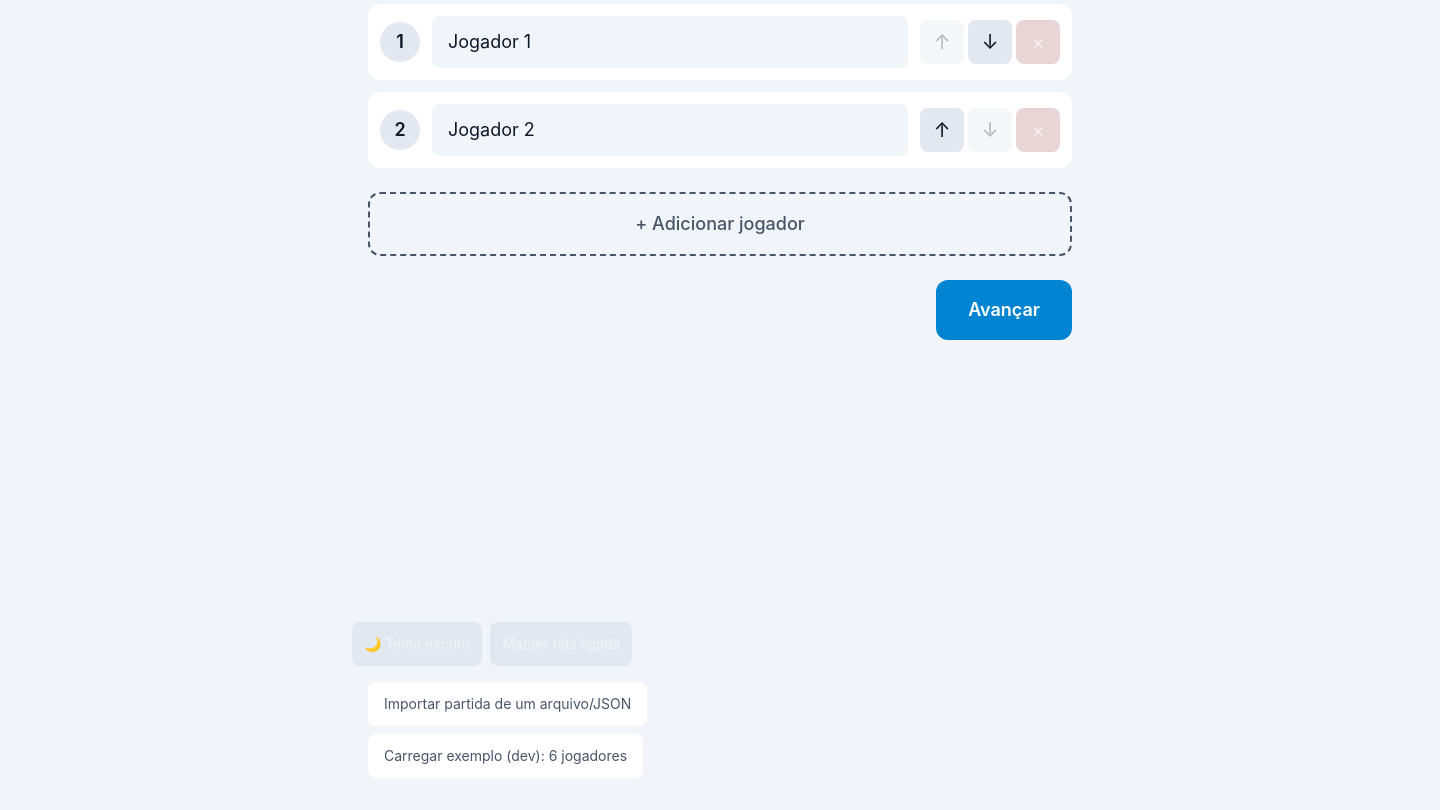
Scenario: Dashboard — critério de aceite (6 jogadores, fixture de dev) › toggle de ocultar dinheiro é por jogador, independente, e começa visível
(page scrolled)
Step 1. Click the button "Carregar exemplo (dev): 6 jogadores" → x=506, y=756, box x1=368 y1=734 x2=643 y2=778
(page scrolled)
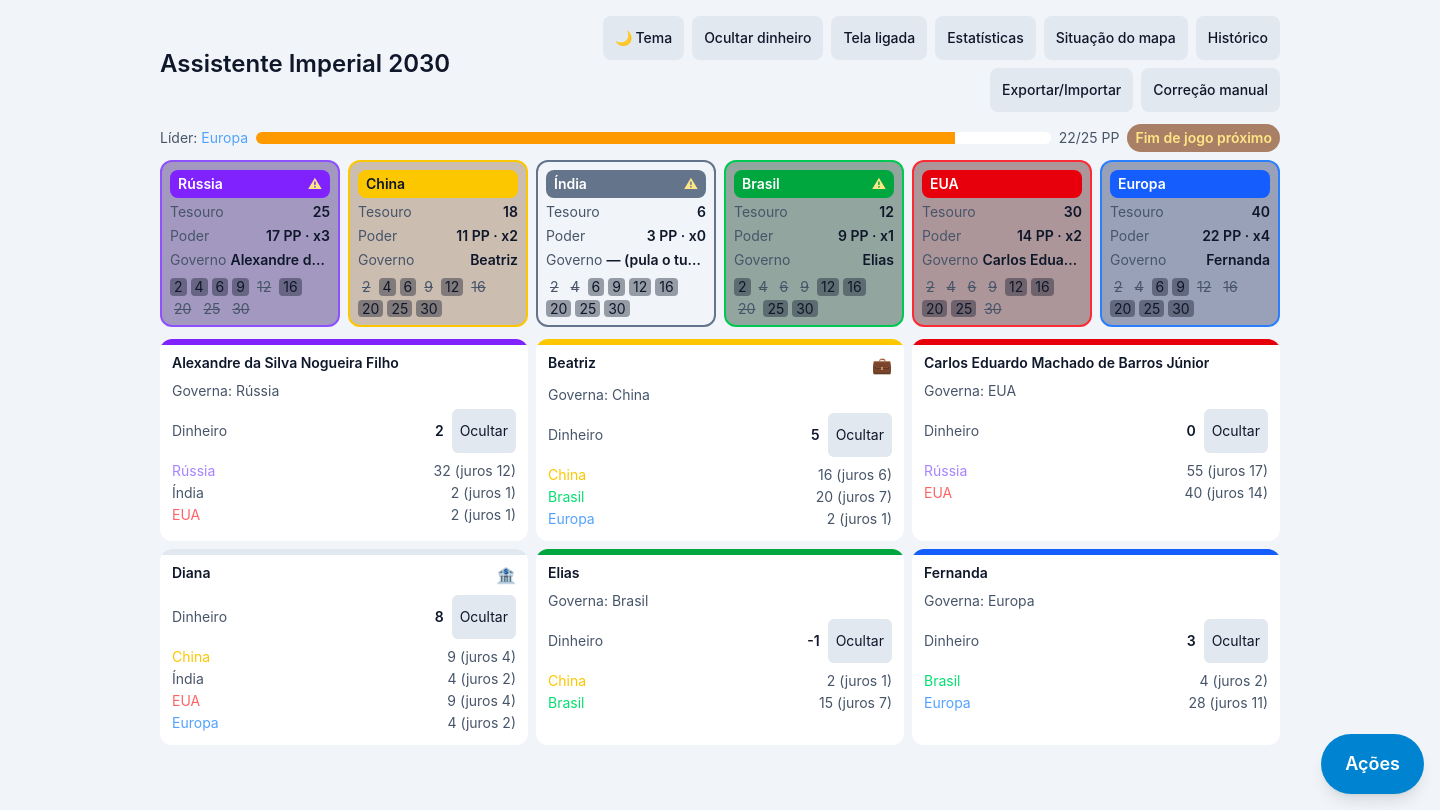
Step 2. Click the button with aria-label "Ocultar dinheiro de Beatriz" → x=860, y=435, box x1=828 y1=413 x2=892 y2=457
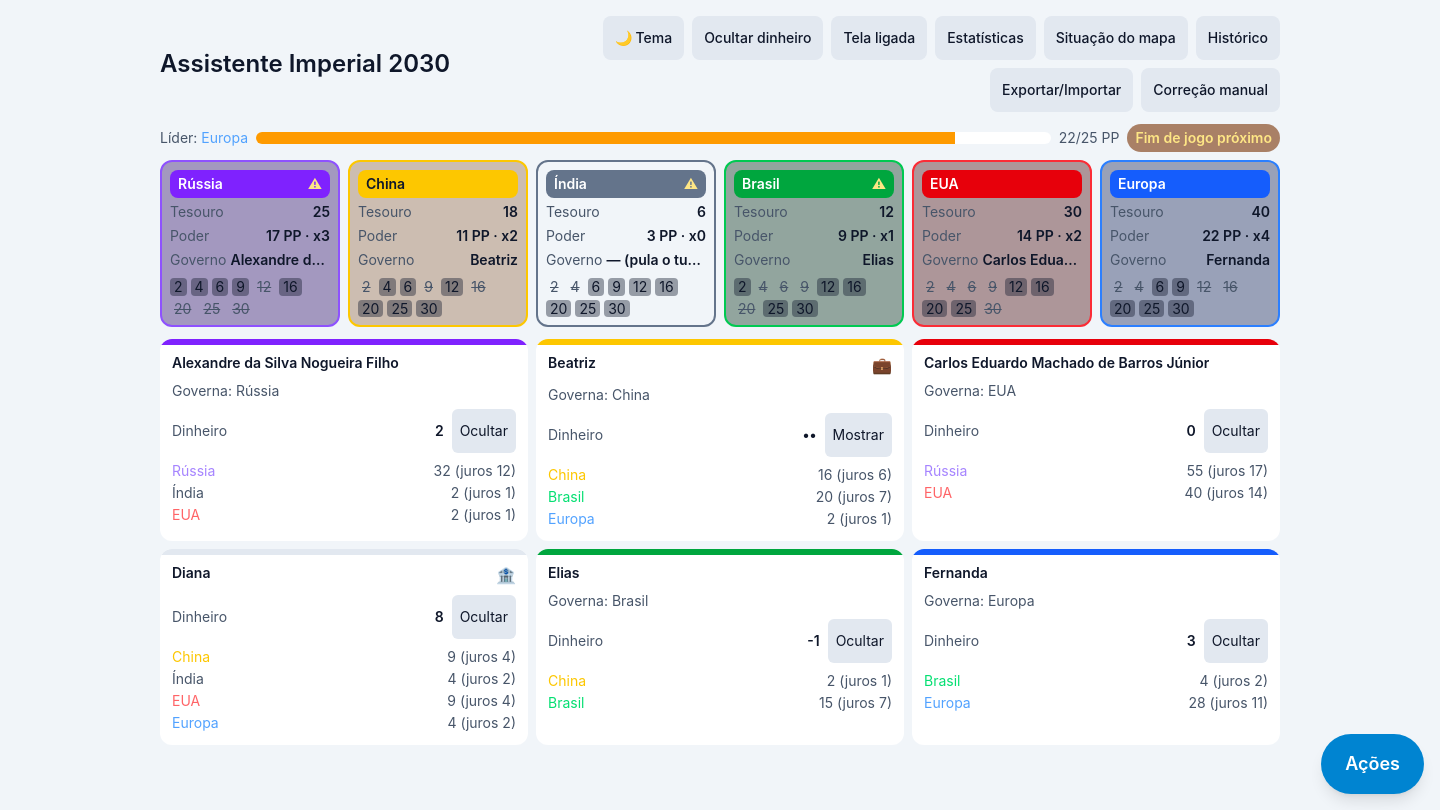
Expected: the button with aria-label "Ocultar dinheiro de Diana" is shown, x1=452 y1=595 x2=516 y2=639
Expected: the button with aria-label "Mostrar dinheiro de Beatriz" is shown, x1=825 y1=413 x2=892 y2=457
